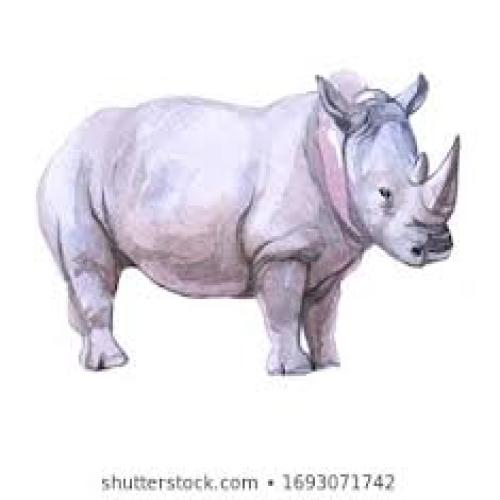rhino-endangered: (30, 51, 462, 386)
